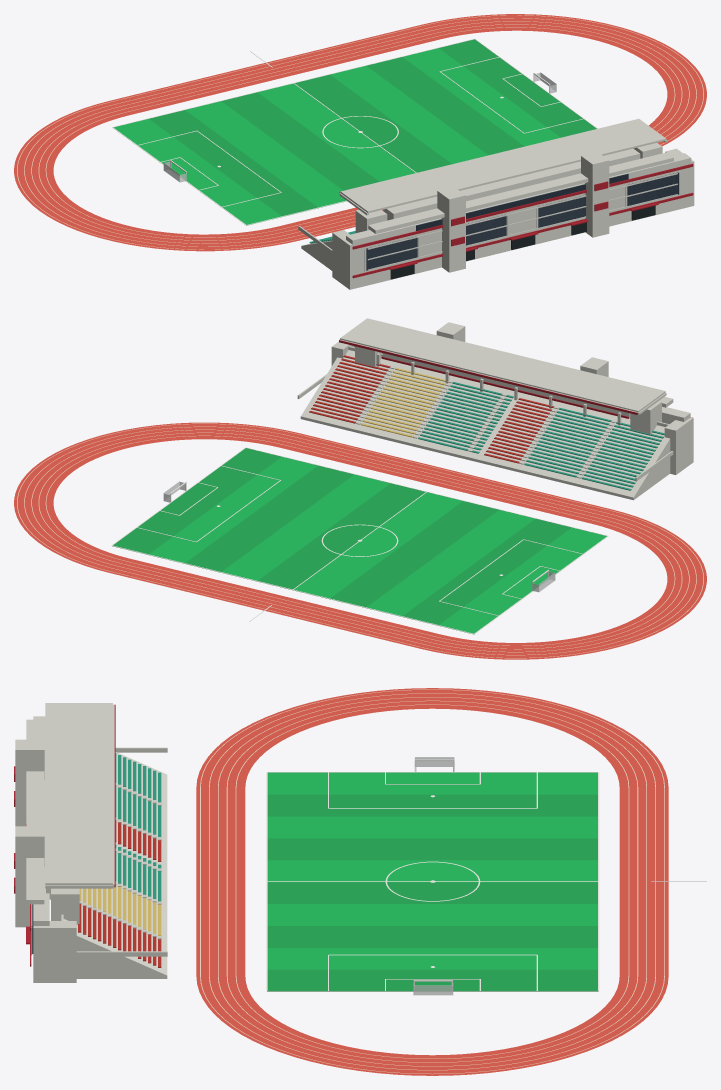
Rendered from hernando_siles.glb.
The picture shows the model from 3 angles, top to bottom: view 1: azimuth 30°, elevation 25°; view 2: azimuth 150°, elevation 25°; view 3: azimuth 270°, elevation 25°; orthographic projection. The views are drawn at different scales.
Visible parts, largest first — view 1: Pista_Roja_Anillo_Principal, Fachada_Principal, Techo_Principal, Ventanales_Principales, Cancha_Cesped_Franga_02, Cancha_Cesped_Franga_03, Cancha_Cesped_Franga_01, Cancha_Cesped_Franga_08, Cancha_Cesped_Franga_04, Cancha_Cesped_Franga_07, Cancha_Cesped_Franga_09, Cancha_Cesped_Franga_10 (+13 smaller); view 2: Pista_Roja_Anillo_Principal, Tribuna_Principal_Escalonada, Asientos_Principales, Techo_Principal, Cancha_Cesped_Franga_03, Cancha_Cesped_Franga_07, Cancha_Cesped_Franga_04, Cancha_Cesped_Franga_08, Cancha_Cesped_Franga_02, Cancha_Cesped_Franga_09, Cancha_Cesped_Franga_10, Cancha_Cesped_Franga_05 (+11 smaller); view 3: Pista_Roja_Anillo_Principal, Techo_Principal, Fachada_Principal, Asientos_Principales, Tribuna_Principal_Escalonada, Cancha_Cesped_Franga_04, Cancha_Cesped_Franga_03, Cancha_Cesped_Franga_02, Cancha_Cesped_Franga_05, Cancha_Cesped_Franga_01, Cancha_Cesped_Franga_10, Cancha_Cesped_Franga_07 (+11 smaller).
Boxes of the visible parts, box(x1,y1,x2,y2) form: Pista_Roja_Anillo_Principal: box(14, 14, 706, 251); Fachada_Principal: box(332, 148, 694, 289); Techo_Principal: box(339, 118, 667, 215); Ventanales_Principales: box(366, 172, 678, 270); Cancha_Cesped_Franga_02: box(149, 110, 318, 216); Cancha_Cesped_Franga_03: box(185, 101, 345, 207); Cancha_Cesped_Franga_01: box(113, 119, 281, 225); Cancha_Cesped_Franga_08: box(366, 57, 524, 155); Cancha_Cesped_Franga_04: box(221, 92, 379, 190); Cancha_Cesped_Franga_07: box(330, 66, 487, 163); Cancha_Cesped_Franga_09: box(403, 48, 560, 146); Cancha_Cesped_Franga_10: box(439, 39, 596, 137); Pista_Roja_Anillo_Principal: box(14, 422, 706, 659); Tribuna_Principal_Escalonada: box(300, 350, 670, 500); Asientos_Principales: box(309, 355, 664, 490); Techo_Principal: box(339, 318, 666, 414); Cancha_Cesped_Franga_03: box(366, 510, 535, 616); Cancha_Cesped_Franga_07: box(221, 474, 390, 581); Cancha_Cesped_Franga_04: box(330, 501, 498, 607); Cancha_Cesped_Franga_08: box(184, 465, 353, 572); Cancha_Cesped_Franga_02: box(402, 519, 571, 625); Cancha_Cesped_Franga_09: box(149, 457, 317, 563); Cancha_Cesped_Franga_10: box(112, 448, 281, 554); Cancha_Cesped_Franga_05: box(294, 492, 462, 598); Pista_Roja_Anillo_Principal: box(196, 688, 668, 1075); Techo_Principal: box(45, 703, 114, 888); Fachada_Principal: box(15, 716, 76, 982); Asientos_Principales: box(78, 753, 161, 967); Tribuna_Principal_Escalonada: box(63, 752, 167, 978); Cancha_Cesped_Franga_04: box(267, 838, 597, 860); Cancha_Cesped_Franga_03: box(267, 816, 597, 838); Cancha_Cesped_Franga_02: box(267, 794, 597, 816); Cancha_Cesped_Franga_05: box(267, 860, 597, 882); Cancha_Cesped_Franga_01: box(267, 772, 597, 794); Cancha_Cesped_Franga_10: box(267, 969, 598, 991); Cancha_Cesped_Franga_07: box(267, 904, 597, 925).
Bounding box in the file's own units: 283 × 32.12 × 214.
